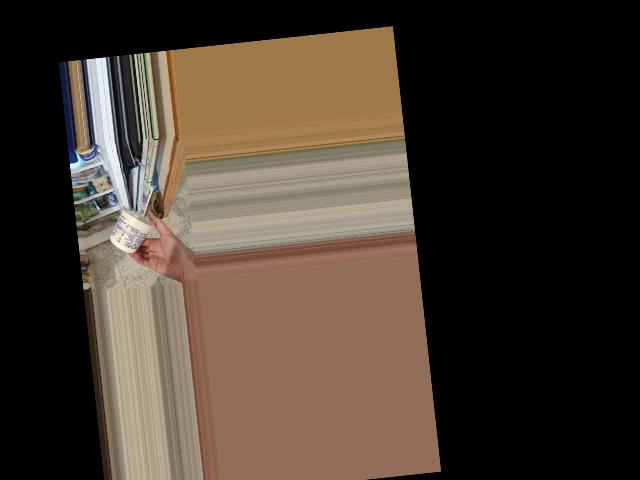cotage: (106, 201, 156, 257)
